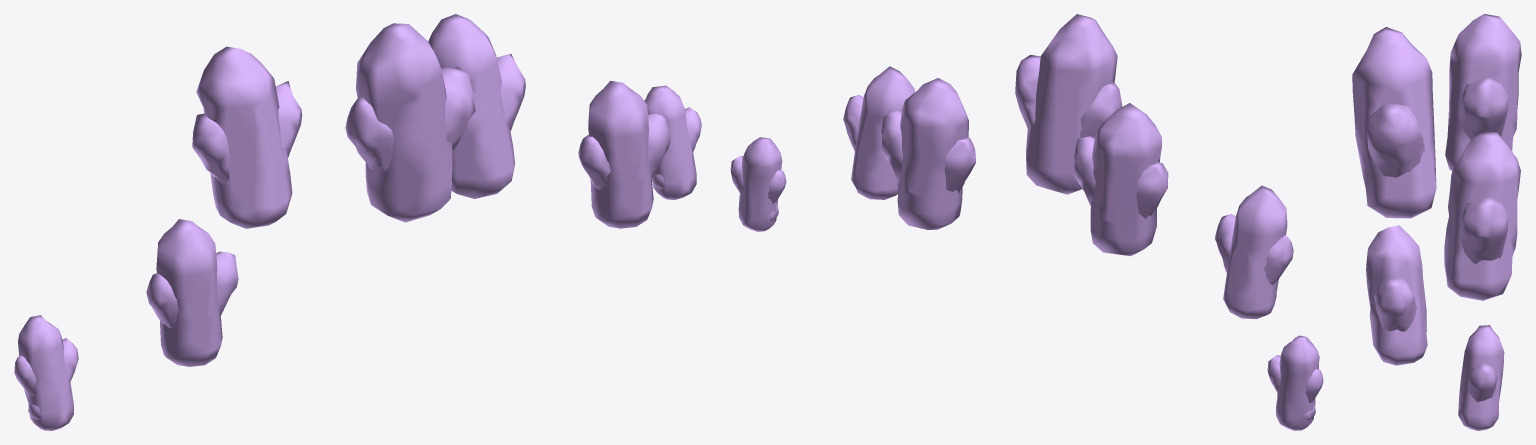
File: stegosaurus_gems_baby.glb
The picture shows the model from 3 angles, left to right: view 1: azimuth 30°, elevation 25°; view 2: azimuth 150°, elevation 25°; view 3: azimuth 270°, elevation 25°; orthographic projection. The views are drawn at different scales.
Parts seen in each view (by area): view 1: gem; view 2: gem; view 3: gem.
Part boxes in pixels (x1,y1,x2,y2): gem: (14, 14, 701, 430); gem: (730, 14, 1323, 430); gem: (1352, 14, 1521, 430).
Size of the model in its own units: 1.71 by 0.8798 by 0.4117.
